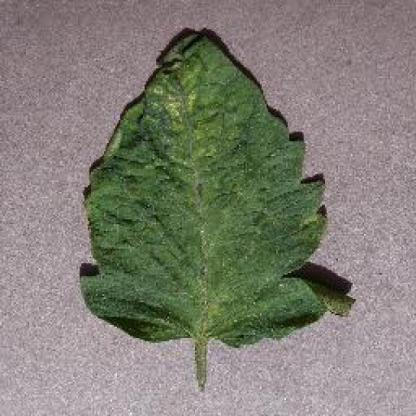Tomato_Spider_Mites: (79, 33, 353, 342)
